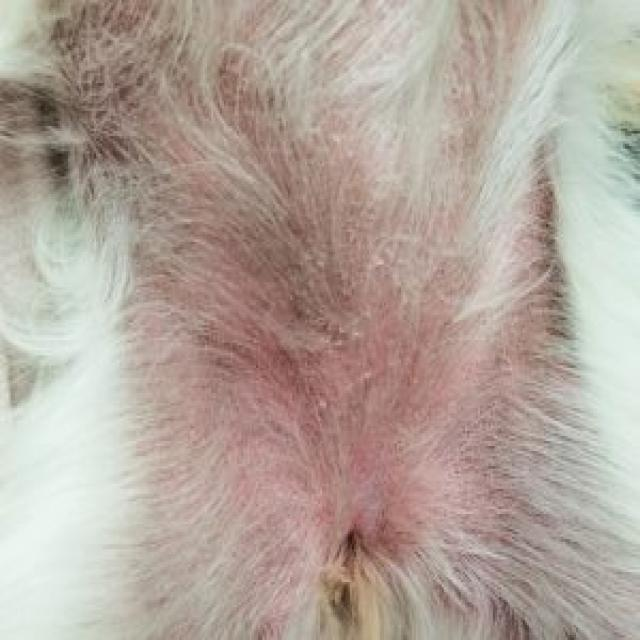di ung bo chet: (94, 5, 501, 640)
